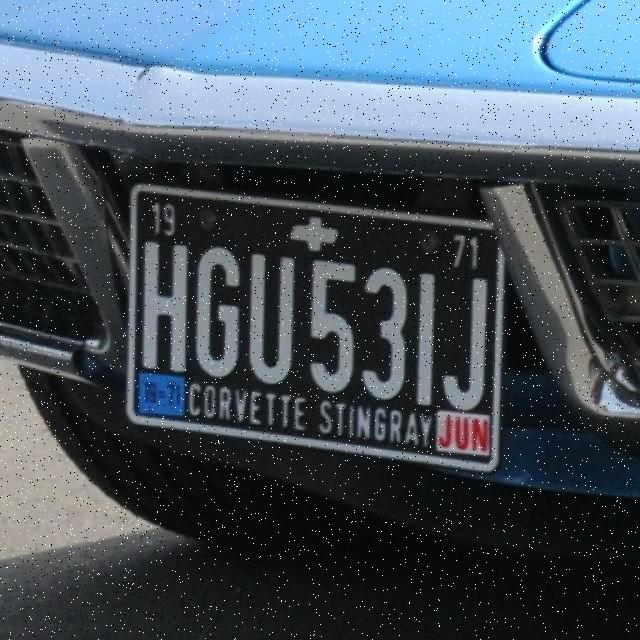licenseplate: (126, 185, 512, 416)
